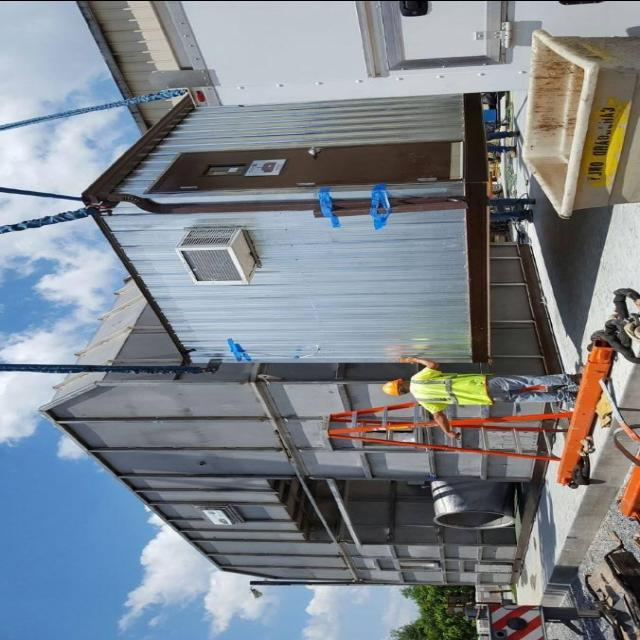helmet: (411, 364, 486, 408), (379, 374, 403, 398)
